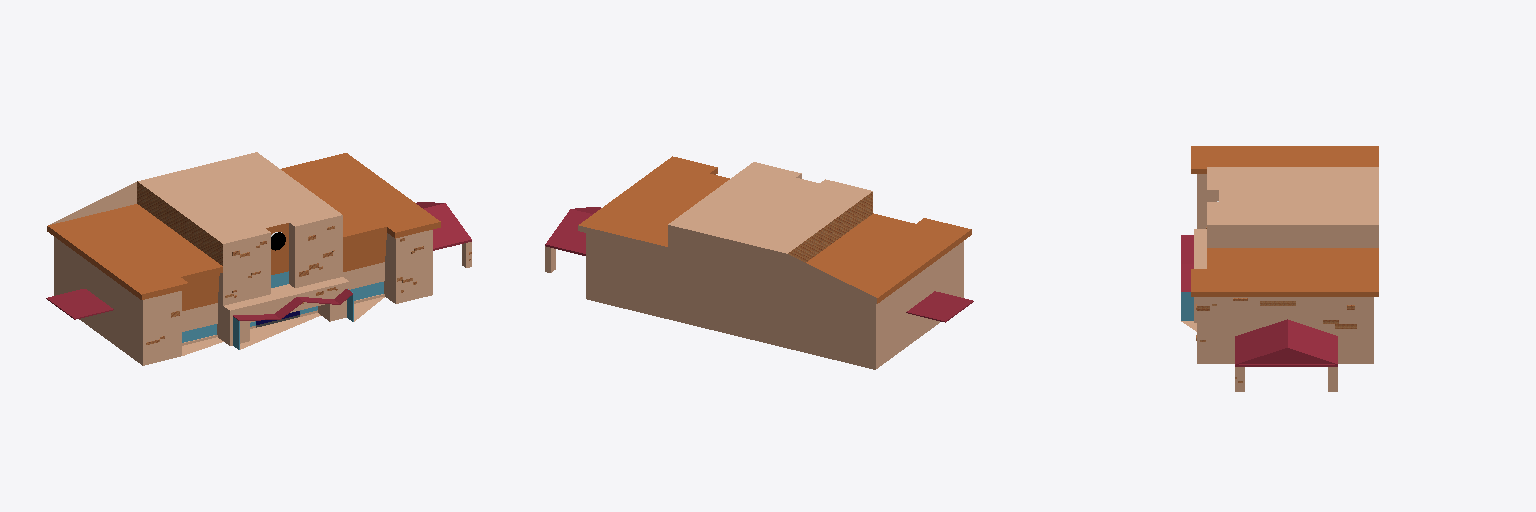
3 views of the same model, side by side, from view 1: azimuth 30°, elevation 25°; view 2: azimuth 150°, elevation 25°; view 3: azimuth 270°, elevation 25° (orthographic).
Visible parts, largest first — view 1: Mesh1Model; view 2: Mesh1Model; view 3: Mesh1Model.
Part boxes in pixels (bbox=[...]): Mesh1Model: bbox=[46, 152, 471, 365]; Mesh1Model: bbox=[545, 156, 973, 369]; Mesh1Model: bbox=[1181, 146, 1378, 391].
Bounding box in the file's own units: 11.47 × 3.13 × 5.09.
Materials: 44 (25 with a texture image).